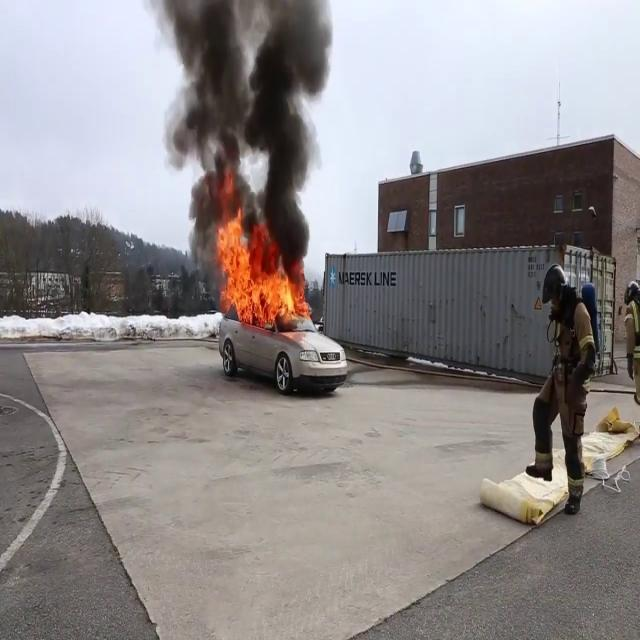Fire: (210, 208, 312, 332)
Smoke: (150, 0, 340, 246)
